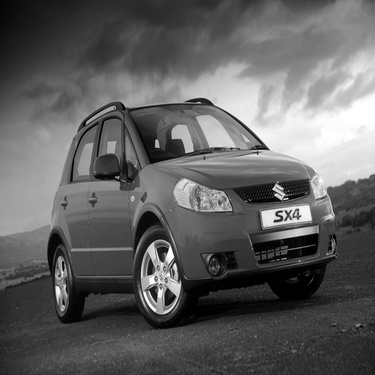car: (28, 91, 344, 330)
